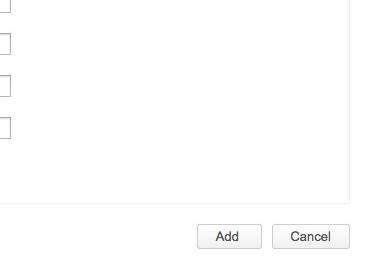button: (270, 223, 351, 250), (195, 222, 262, 250)
